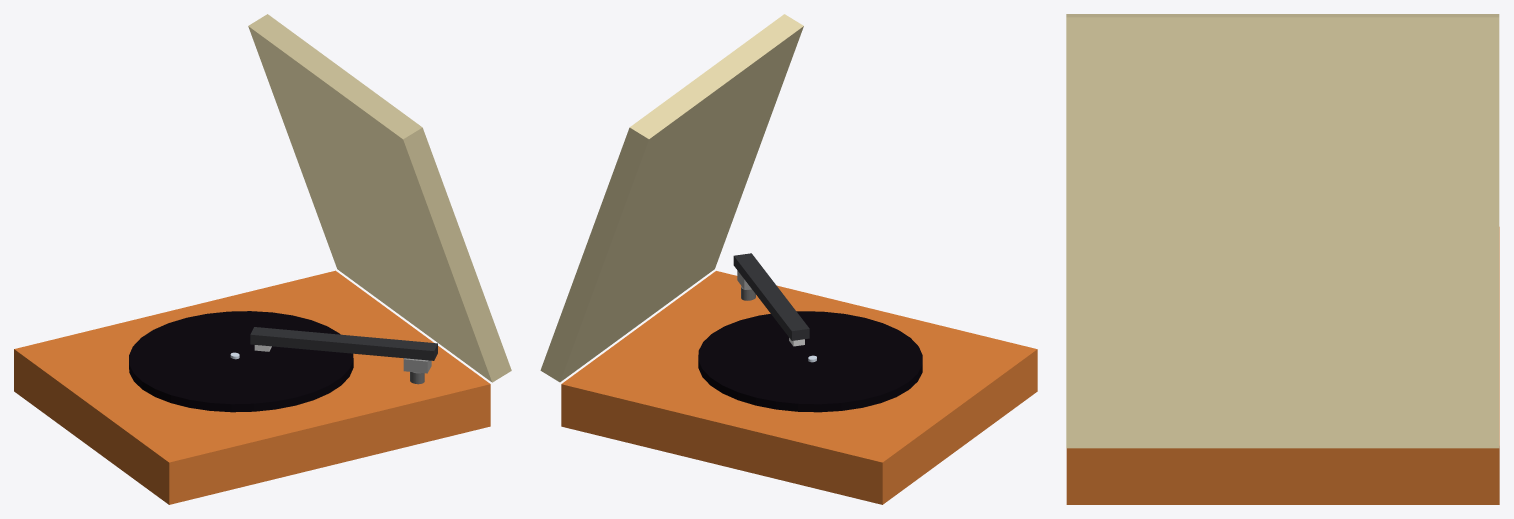
The model's file is record_player.fbx.
3 views of the same model, side by side, from view 1: azimuth 30°, elevation 25°; view 2: azimuth 150°, elevation 25°; view 3: azimuth 270°, elevation 25° (orthographic). The views are drawn at different scales.
Parts seen in each view (by area): view 1: Base, cover, turntable, Arm; view 2: Base, cover, turntable, Arm; view 3: cover, Base.
Part boxes in pixels (left/top/right/bottom): Base: left=14, top=270, right=490, bottom=504; cover: left=248, top=14, right=511, bottom=382; turntable: left=129, top=311, right=353, bottom=412; Arm: left=250, top=327, right=437, bottom=360; Base: left=561, top=271, right=1037, bottom=504; cover: left=540, top=14, right=803, bottom=382; turntable: left=698, top=311, right=922, bottom=412; Arm: left=733, top=253, right=809, bottom=340; cover: left=1066, top=14, right=1499, bottom=448; Base: left=1066, top=227, right=1499, bottom=504.
Size of the model in its own units: 255 by 225 by 200.
